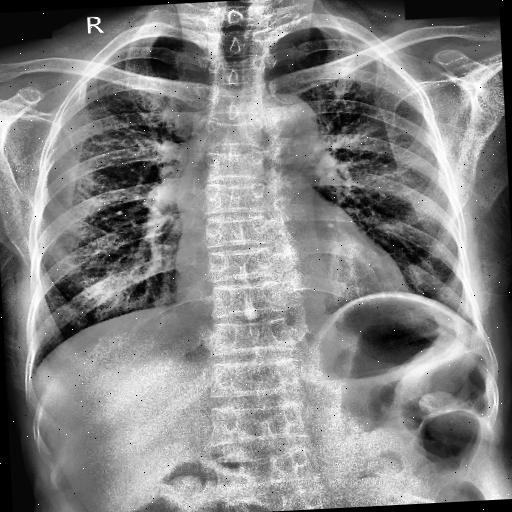0- Aortic enlargement: (237, 92, 322, 170), (250, 87, 320, 163), (265, 89, 321, 158)
3- Cardiomegaly: (172, 254, 412, 320), (170, 276, 414, 324)
